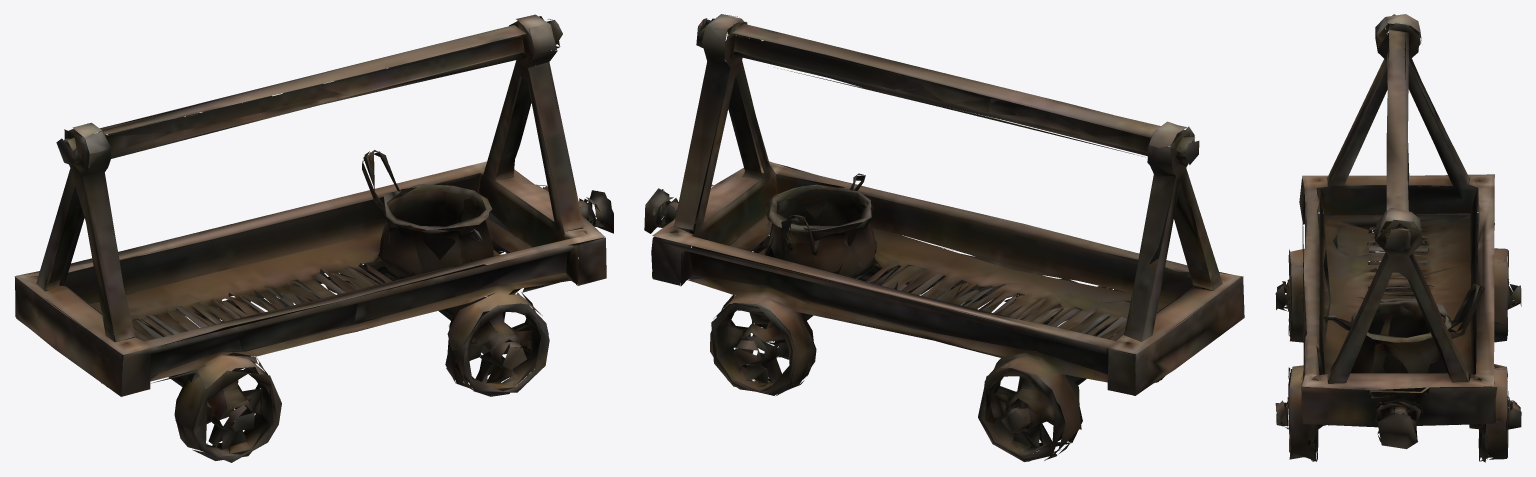
File: chasis_vaciador.movil.glb
3 renders of one model, left to right at view 1: azimuth 30°, elevation 25°; view 2: azimuth 150°, elevation 25°; view 3: azimuth 270°, elevation 25°, orthographic. The views are drawn at different scales.
Parts seen in each view (by area): view 1: geometry_0; view 2: geometry_0; view 3: geometry_0.
Part boxes in pixels (x1,y1,x2,y2): geometry_0: (14, 14, 613, 462); geometry_0: (644, 14, 1244, 461); geometry_0: (1275, 14, 1521, 462).
Size of the model in its own units: 4.31 by 2.39 by 1.91.
1 material, 1 textured.
